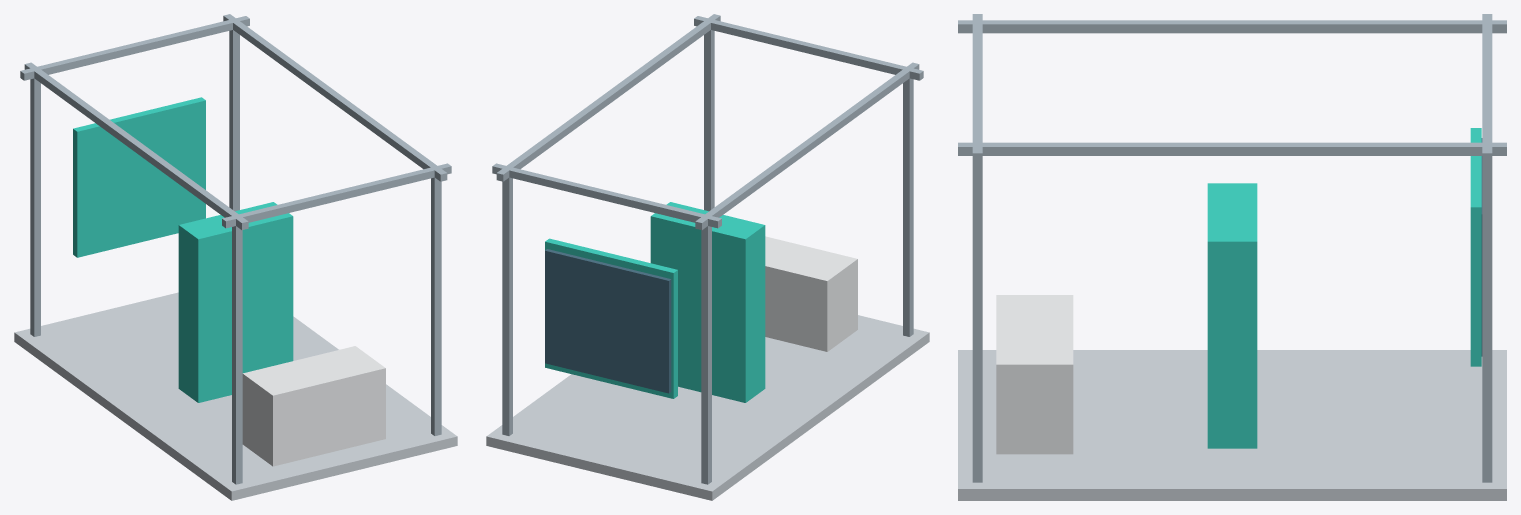
3 renders of one model, left to right at view 1: azimuth 30°, elevation 25°; view 2: azimuth 150°, elevation 25°; view 3: azimuth 270°, elevation 25°, orthographic. The views are drawn at different scales.
Visible parts, largest first — view 1: Exhibition Booth Concept; view 2: Exhibition Booth Concept; view 3: Exhibition Booth Concept.
Boxes of the visible parts, left/top/right/bottom form: Exhibition Booth Concept: left=14, top=14, right=457, bottom=500; Exhibition Booth Concept: left=486, top=14, right=929, bottom=500; Exhibition Booth Concept: left=958, top=14, right=1506, bottom=500.
Bounding box in the file's own units: 3 × 3.49 × 5.
